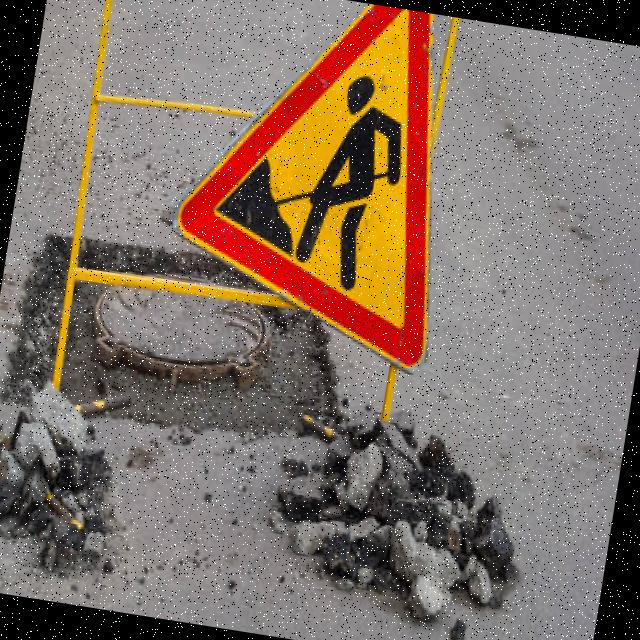road_work: (158, 0, 479, 365)
